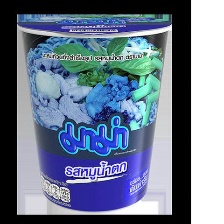paper_cup: (16, 13, 171, 213)
